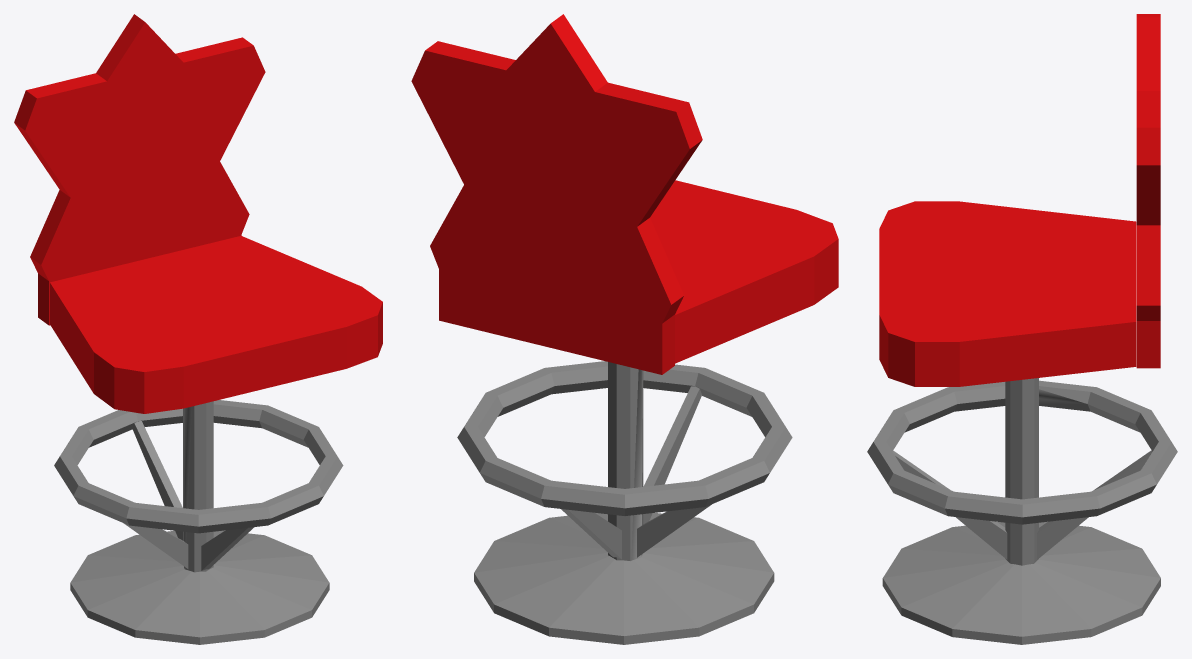
File: Chair1.fbx
3 views of the same model, side by side, from view 1: azimuth 30°, elevation 25°; view 2: azimuth 150°, elevation 25°; view 3: azimuth 270°, elevation 25° (orthographic). The views are drawn at different scales.
Visible parts, largest first — view 1: Material2.007; view 2: Material2.007; view 3: Material2.007.
Part boxes in pixels (box(x1,y1,x2,y2)): Material2.007: box(14, 14, 382, 644); Material2.007: box(411, 14, 838, 644); Material2.007: box(867, 14, 1177, 644).
Bounding box in the file's own units: 0.8929 × 1.68 × 0.8335.
